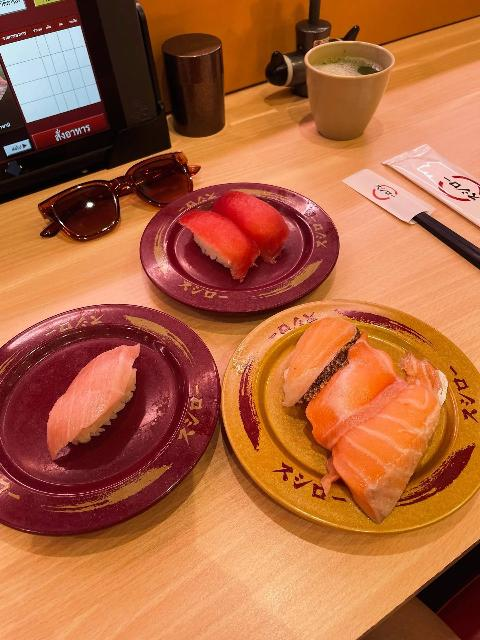jangold: (214, 313, 480, 563)
janred: (0, 301, 223, 522), (151, 187, 376, 312)
